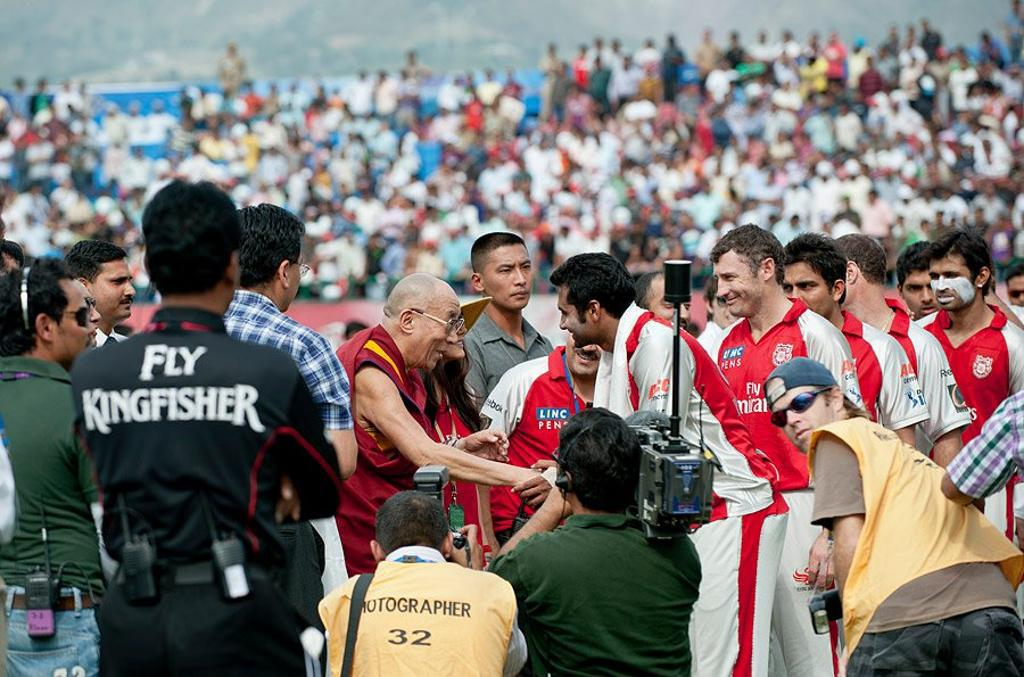face: (771, 380, 832, 452), (39, 286, 92, 358), (411, 302, 461, 371), (484, 247, 533, 308), (780, 265, 833, 321), (715, 256, 764, 316), (56, 285, 102, 347), (648, 281, 693, 339), (567, 320, 612, 376), (929, 262, 976, 310), (557, 290, 593, 348), (905, 272, 946, 322), (99, 266, 137, 317), (1009, 287, 1024, 315)
